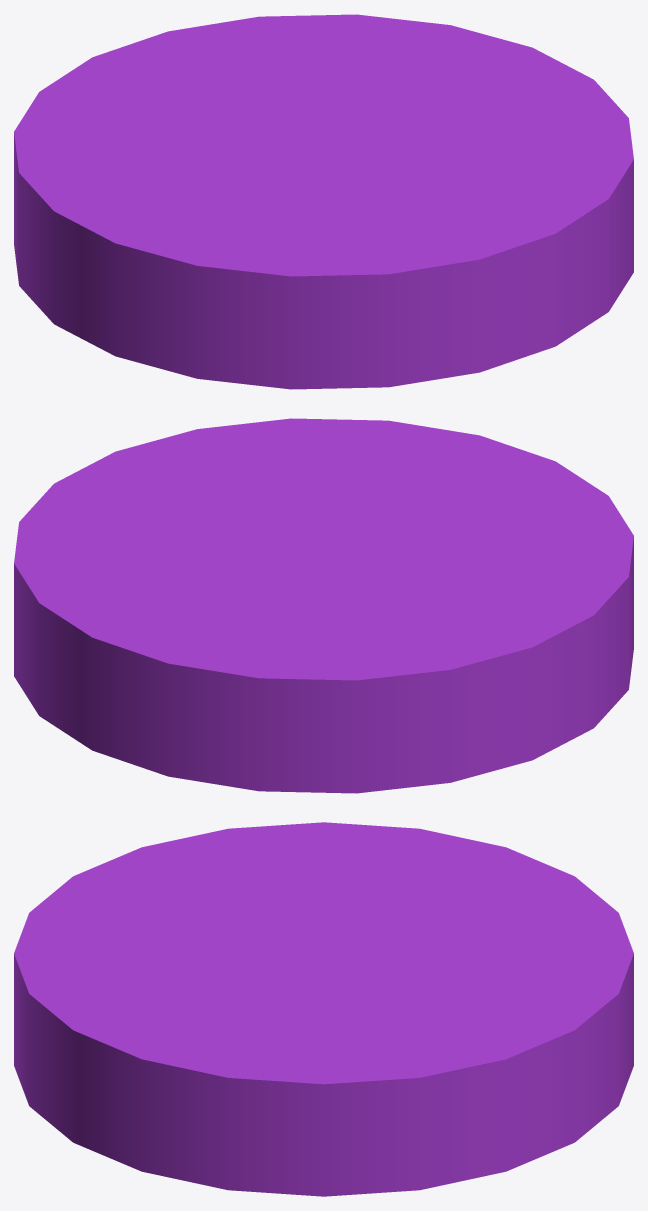
Rendered from CouponCoin.fbx.
3 renders of one model, top to bottom at view 1: azimuth 30°, elevation 25°; view 2: azimuth 150°, elevation 25°; view 3: azimuth 270°, elevation 25°, orthographic.
Visible parts, largest first — view 1: CouponCoin; view 2: CouponCoin; view 3: CouponCoin.
Boxes of the visible parts, x1,y1,x2,y2 form: CouponCoin: (14, 14, 633, 389); CouponCoin: (14, 418, 633, 793); CouponCoin: (14, 822, 633, 1196).
Size of the model in its own units: 5 by 1 by 5.
